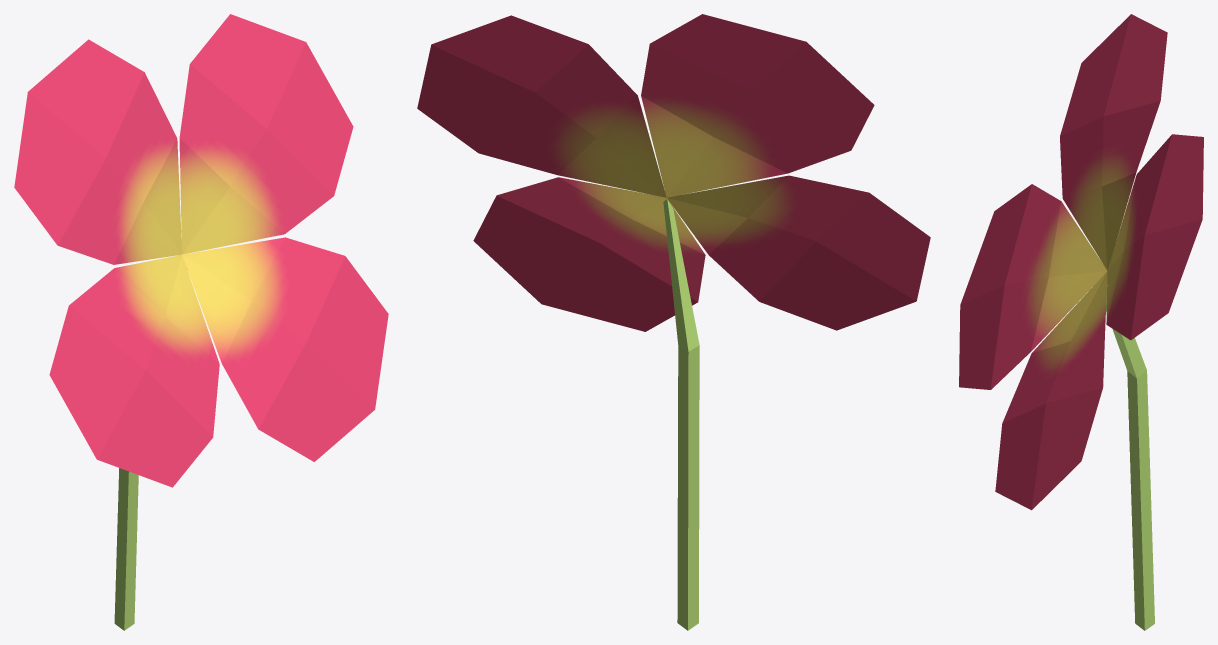
Rendered from Flower_c_TwoS_04.fbx.
3 renders of one model, left to right at view 1: azimuth 30°, elevation 25°; view 2: azimuth 150°, elevation 25°; view 3: azimuth 270°, elevation 25°, orthographic. The views are drawn at different scales.
Parts seen in each view (by area): view 1: Flower_c_TwoS_04; view 2: Flower_c_TwoS_04; view 3: Flower_c_TwoS_04.
Part boxes in pixels (x1,y1,x2,y2): Flower_c_TwoS_04: (14,14,388,630); Flower_c_TwoS_04: (417,14,930,630); Flower_c_TwoS_04: (959,14,1203,630).
Size of the model in its own units: 0.2742 by 0.3913 by 0.1493.
